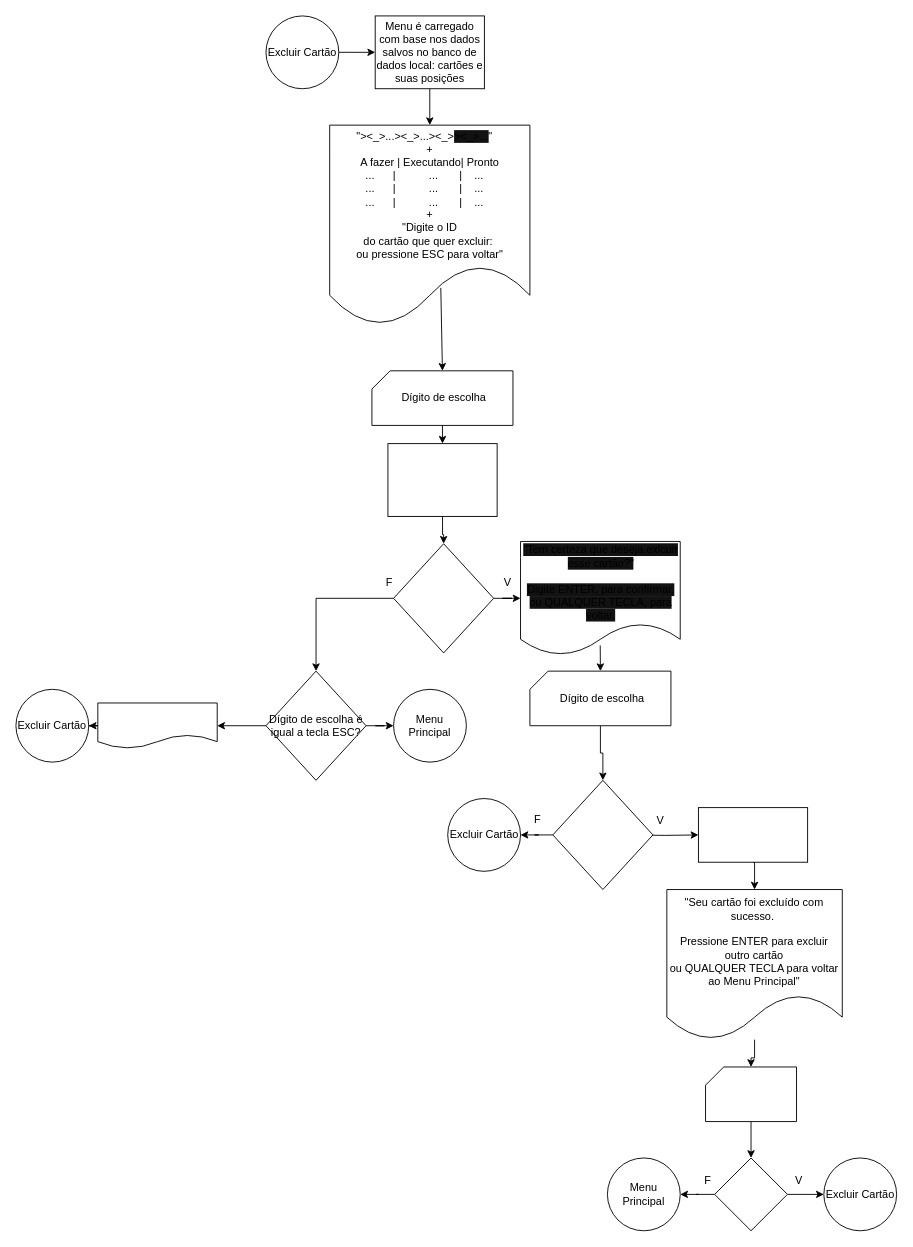
The diagram is 913 pixels wide and 1247 high, and some of its shapes have lost their labels. Each missing label, with the centre of its shape:
"ID inválido. Por favor, tente novamente": (157,725)
Dígito de escolha é a tecla ENTER?: (602,834)
Dígito de escolha é igual a algum ID do banco de cartões?: (443,598)
Entrada do usuário: (751,1094)
Entrada é a tecla ENTER?: (750,1194)
Laço irá comparar o dígito com todos os outros no banco de dados: (442,479)
Todas as informações do cartão são apagadas do banco de dados: (753,834)
